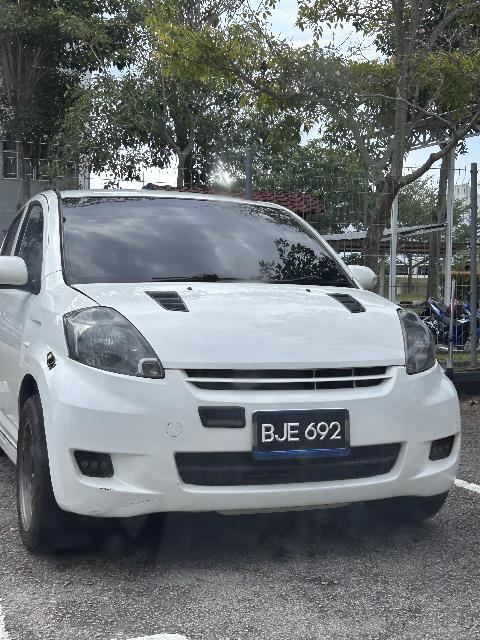BJE692: (252, 411, 352, 458)
License_Plate: (252, 411, 352, 458)
car: (1, 193, 480, 553)
